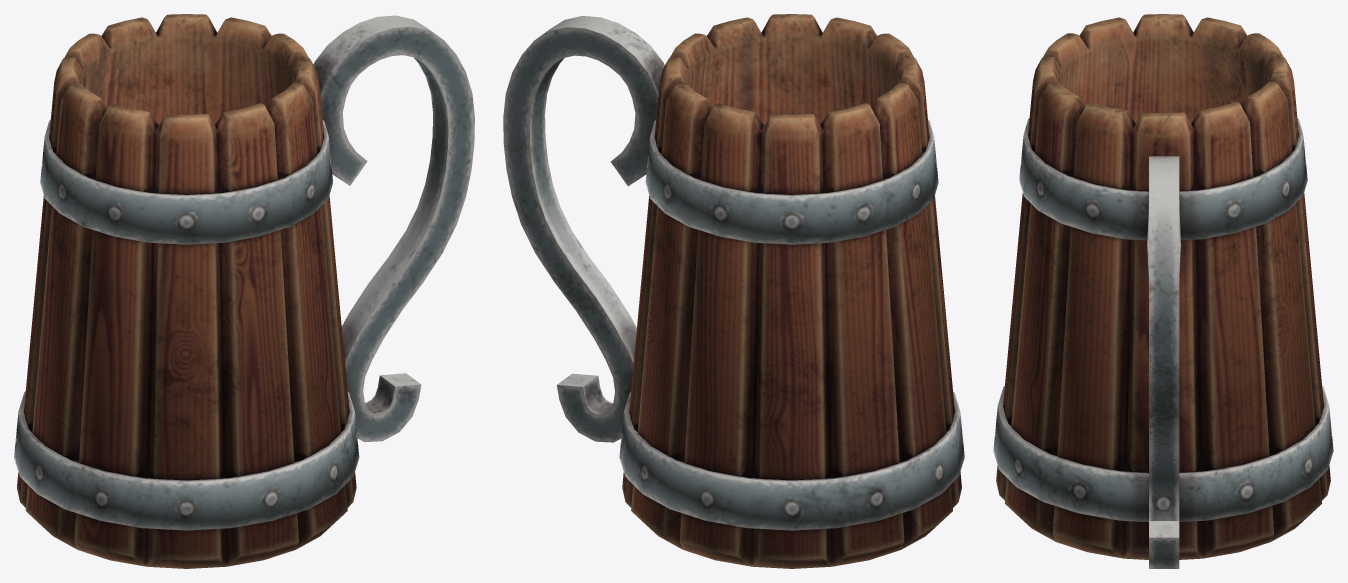
The model's file is MugMedieval.fbx.
The picture shows the model from 3 angles, left to right: view 1: azimuth 30°, elevation 25°; view 2: azimuth 150°, elevation 25°; view 3: azimuth 270°, elevation 25°; orthographic projection.
Parts seen in each view (by area): view 1: MugMedieval; view 2: MugMedieval; view 3: MugMedieval.
Boxes of the visible parts, left/top/right/bottom form: MugMedieval: left=14, top=14, right=474, bottom=568; MugMedieval: left=503, top=14, right=964, bottom=568; MugMedieval: left=993, top=14, right=1333, bottom=568.
Bounding box in the file's own units: 33.61 × 32.61 × 23.35.
